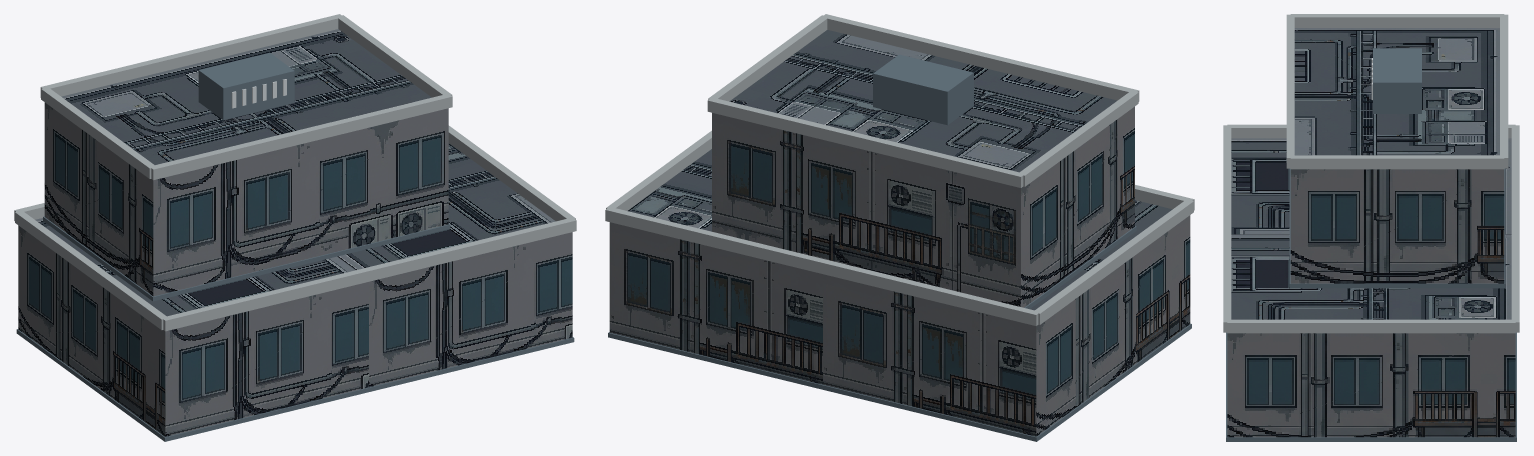
File: street_south_terrace.glb
3 renders of one model, left to right at view 1: azimuth 30°, elevation 25°; view 2: azimuth 150°, elevation 25°; view 3: azimuth 270°, elevation 25°, orthographic. The views are drawn at different scales.
Parts seen in each view (by area): view 1: street_south_terrace; view 2: street_south_terrace; view 3: street_south_terrace.
Boxes of the visible parts, box(x1,y1,x2,y2) form: street_south_terrace: box(14, 14, 576, 441); street_south_terrace: box(605, 14, 1194, 441); street_south_terrace: box(1223, 14, 1519, 441).
Bounding box in the file's own units: 8.14 × 5 × 5.14.
Materials: 5 (2 with a texture image).
